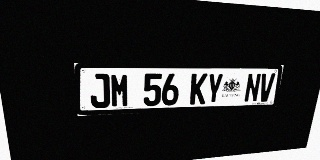5: (144, 73, 162, 106)
6: (161, 73, 180, 106)
J: (89, 73, 110, 108)
K: (189, 73, 208, 105)
M: (110, 73, 129, 108)
N: (244, 73, 262, 102)
V: (258, 73, 275, 102)
Y: (205, 73, 224, 104)
